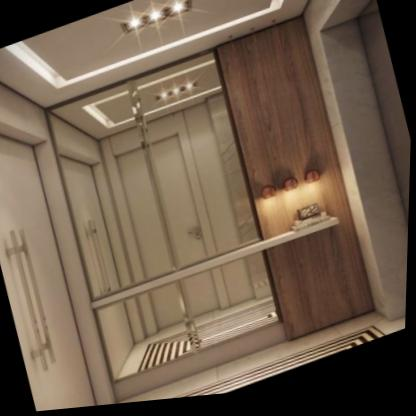Ceramic floor: (121, 319, 391, 406)
Gypsum Board: (0, 0, 373, 128)
Wall Panel: (210, 13, 385, 352)
